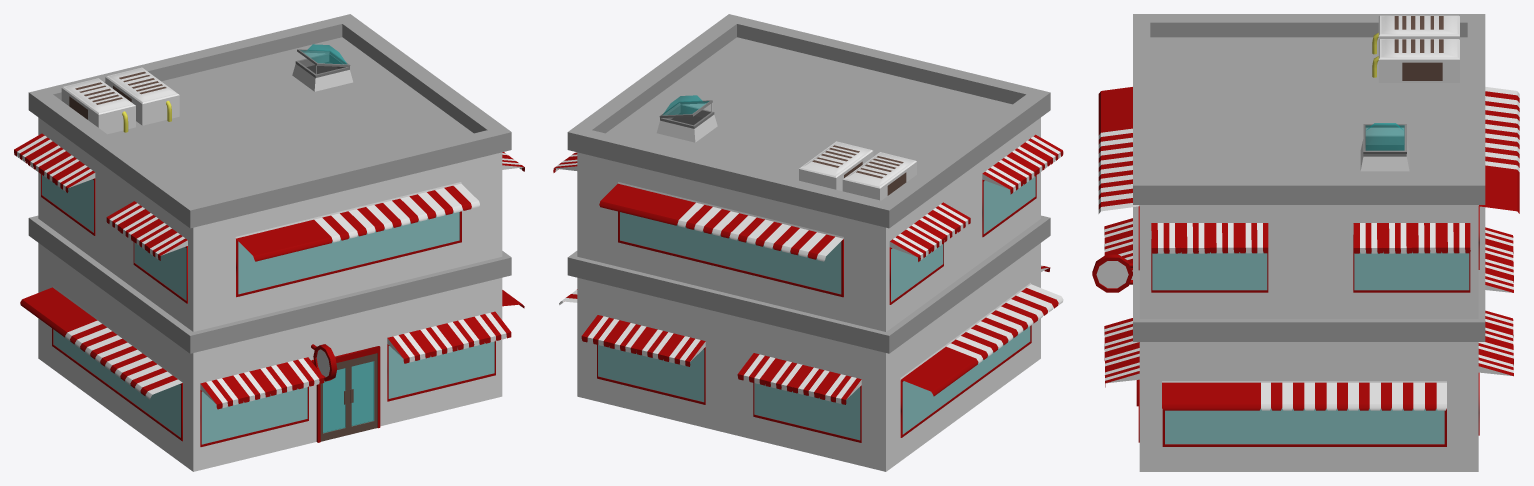
The model's file is Building_2Story_Mod_1.fbx.
The picture shows the model from 3 angles, left to right: view 1: azimuth 30°, elevation 25°; view 2: azimuth 150°, elevation 25°; view 3: azimuth 270°, elevation 25°; orthographic projection. The views are drawn at different scales.
Parts seen in each view (by area): view 1: Building388, Roof9, Windows5, Aircon7, Aircon6, Door33, RoofLatch1, Door32, Sign3; view 2: Building388, Roof9, Windows5, Aircon7, Aircon6, RoofLatch1; view 3: Building388, Roof9, Windows5, Aircon6, RoofLatch1, Aircon7, Sign3.
Boxes of the visible parts, <box> form: Building388: <box>28,117,511,471</box>; Roof9: <box>28,14,511,228</box>; Windows5: <box>14,133,524,446</box>; Aircon7: <box>61,78,135,134</box>; Aircon6: <box>105,67,179,125</box>; Door33: <box>348,353,377,434</box>; RoofLatch1: <box>292,44,352,91</box>; Door32: <box>320,360,348,441</box>; Sign3: <box>311,344,337,381</box>; Building388: <box>567,117,1050,471</box>; Roof9: <box>567,14,1050,228</box>; Windows5: <box>553,134,1063,442</box>; Aircon7: <box>842,152,916,200</box>; Aircon6: <box>799,141,873,191</box>; RoofLatch1: <box>656,95,717,142</box>; Building388: <box>1133,205,1485,471</box>; Roof9: <box>1133,14,1485,204</box>; Windows5: <box>1098,87,1519,446</box>; Aircon6: <box>1372,39,1459,82</box>; RoofLatch1: <box>1360,123,1409,171</box>; Aircon7: <box>1372,15,1459,54</box>; Sign3: <box>1092,254,1132,292</box>.
Size of the model in its own units: 11.11 by 8.06 by 10.06.
